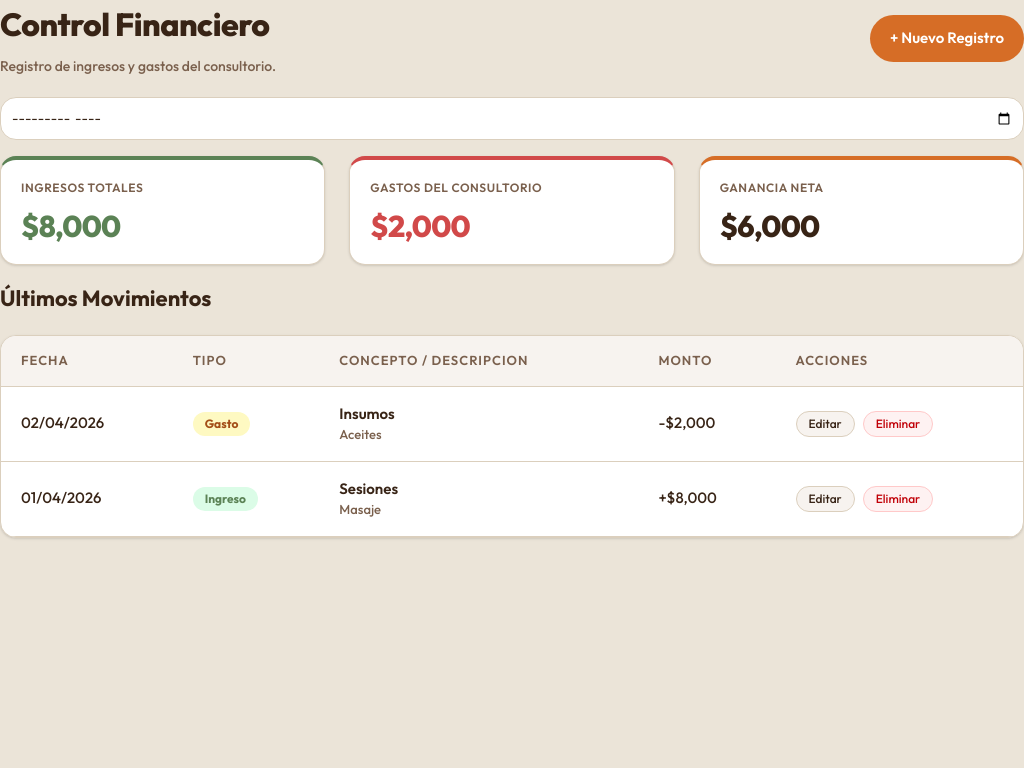
Test: Finances › opens create modal on button click
The image size is (1024, 768).
Check: the text "Ingresos Totales" is shown, box [21,180,143,195]
Click the button "+ Nuevo Registro" at (947, 39), box [870,15,1023,62]
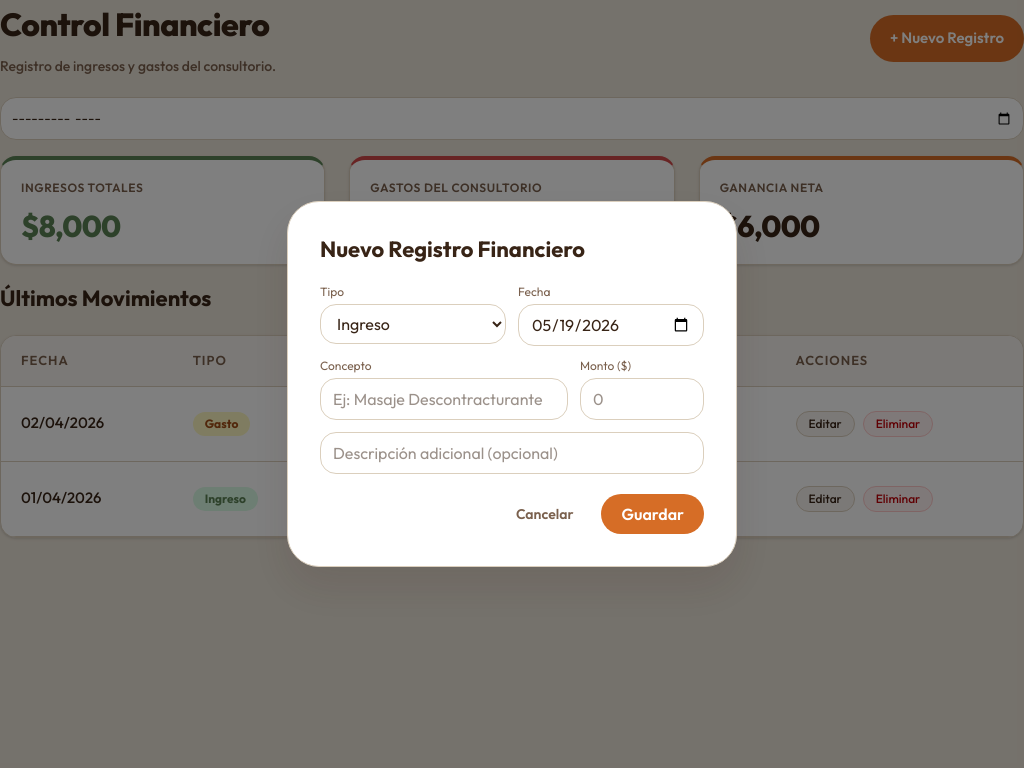
Check: the element with class "modal-overlay" is shown
